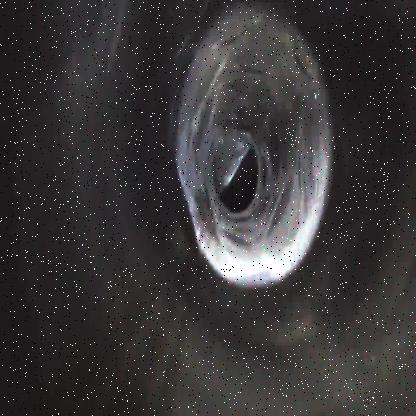Crack: (170, 5, 333, 289)
